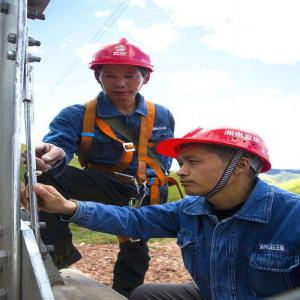red: (167, 122, 274, 201), (89, 37, 155, 103)
